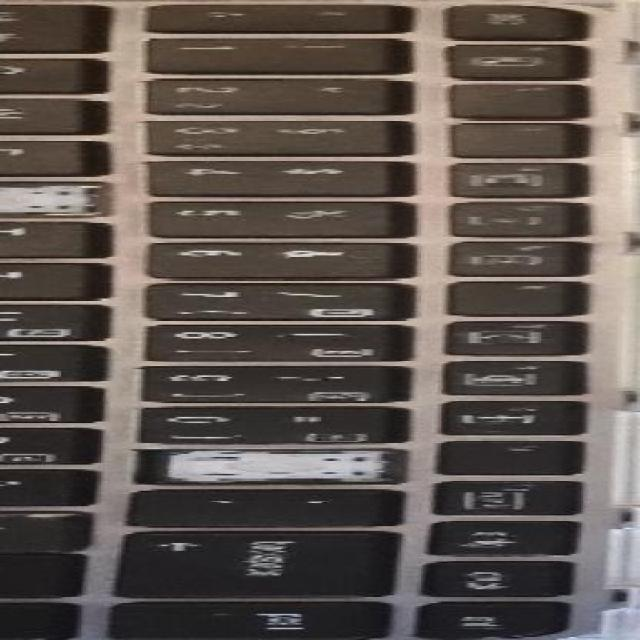Keyboard problems: (135, 448, 406, 483), (0, 183, 109, 215)
